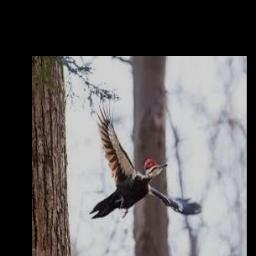Woodpecker: (90, 100, 202, 218)
